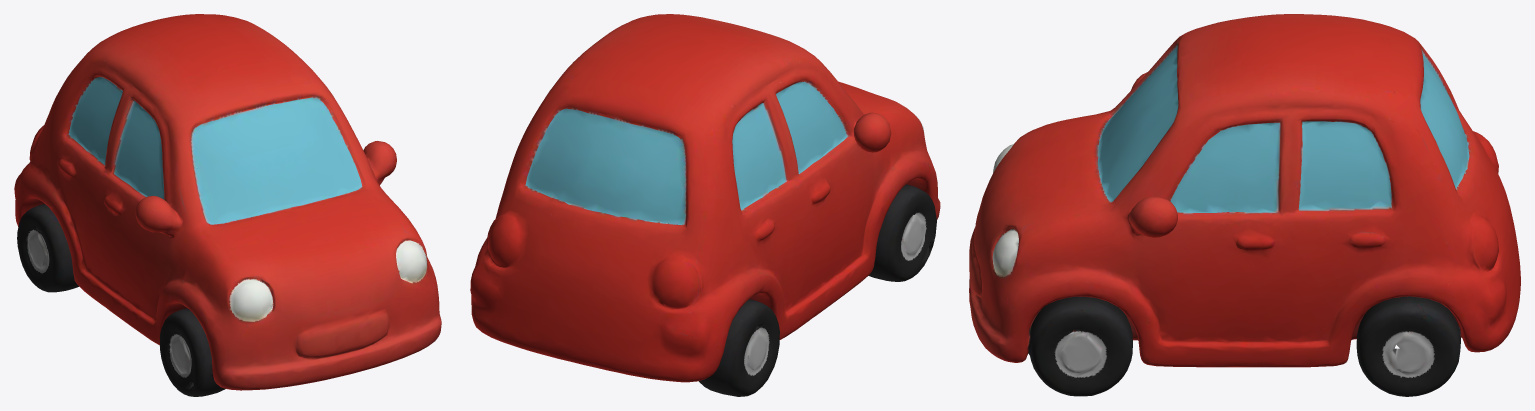
Rendered from myvi.glb.
3 views of the same model, side by side, from view 1: azimuth 30°, elevation 25°; view 2: azimuth 150°, elevation 25°; view 3: azimuth 270°, elevation 25° (orthographic). The views are drawn at different scales.
Bounding box in the file's own units: 0.6152 × 0.5916 × 1.
1 material, 1 textured.
